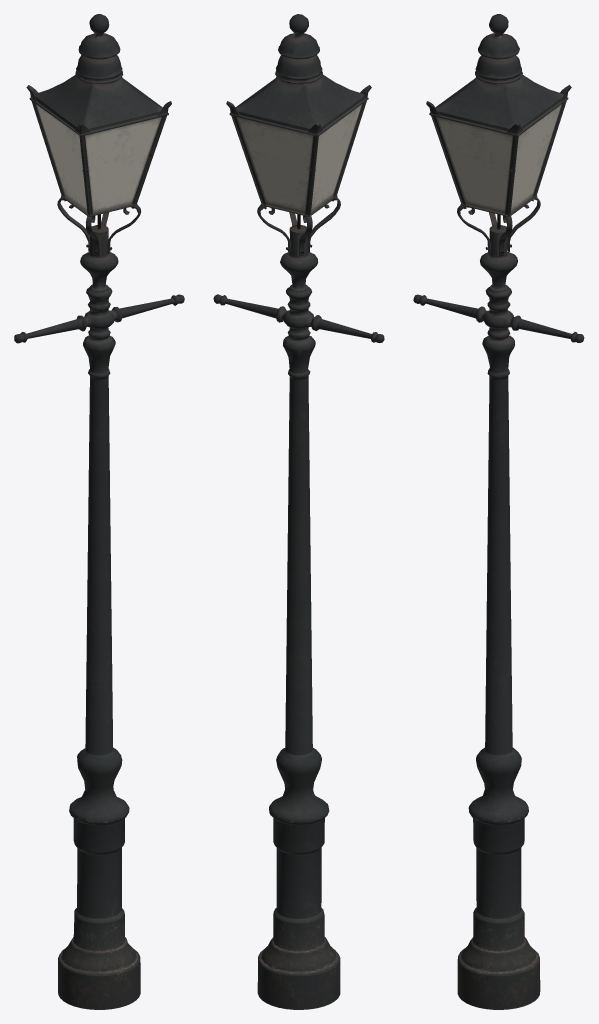
The model's file is street_lamp_01.glb.
3 renders of one model, left to right at view 1: azimuth 30°, elevation 25°; view 2: azimuth 150°, elevation 25°; view 3: azimuth 330°, elevation 25°, orthographic.
Visible parts, largest first — view 1: lamp_LOD0; view 2: lamp_LOD0; view 3: lamp_LOD0.
Boxes of the visible parts, x1,y1,x2,y2 form: lamp_LOD0: [14, 14, 184, 1009]; lamp_LOD0: [213, 14, 384, 1009]; lamp_LOD0: [413, 14, 584, 1009].
Size of what is drawn, in the model's own units: 0.7024 by 3.87 by 0.3862.
2 materials, 2 textured.
